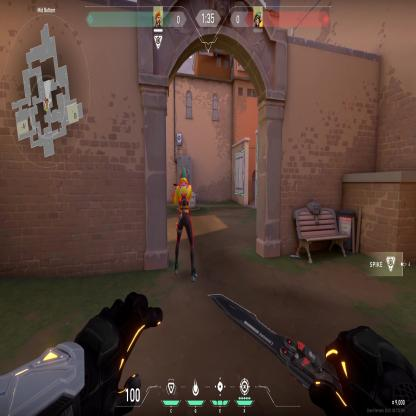enemy: (171, 166, 197, 286)
